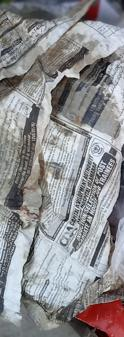paper: (0, 21, 123, 327), (7, 118, 123, 308), (38, 41, 124, 146)
